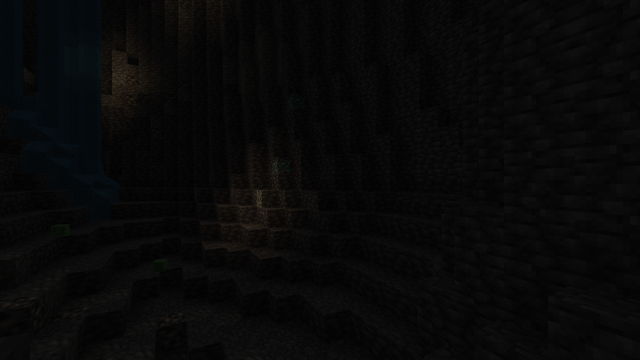slimes: (50, 223, 69, 237), (153, 257, 165, 271)
